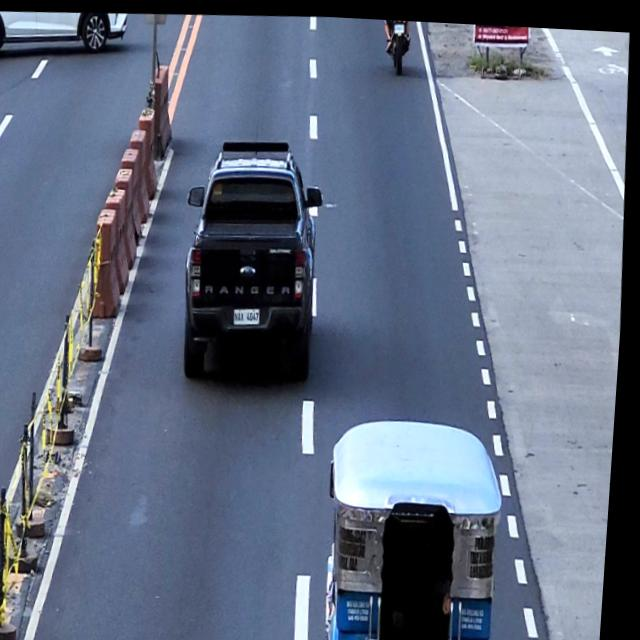Car: (178, 131, 335, 382), (0, 6, 130, 62)
Jeep: (323, 407, 518, 640)
License-Plate: (235, 302, 265, 323), (393, 20, 405, 30)
Motorcycle: (381, 16, 412, 71)
